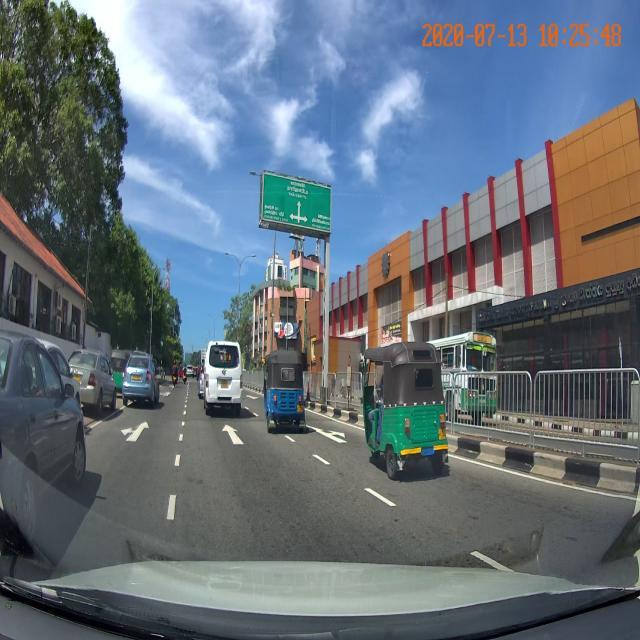forward: (176, 417, 307, 451)
